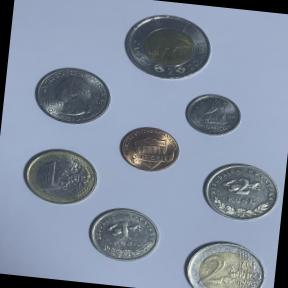coin: (116, 8, 218, 90), (27, 61, 118, 134), (196, 157, 286, 230), (16, 141, 103, 211), (177, 233, 270, 288), (111, 122, 184, 178), (181, 88, 247, 144)
